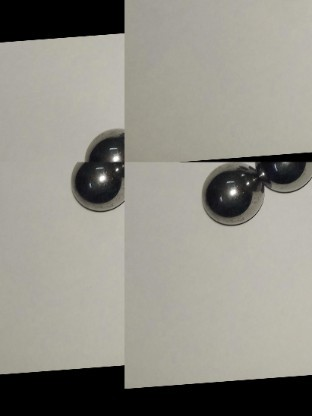ironball: (201, 163, 263, 224), (68, 162, 121, 212), (256, 160, 310, 194), (84, 122, 125, 163)
